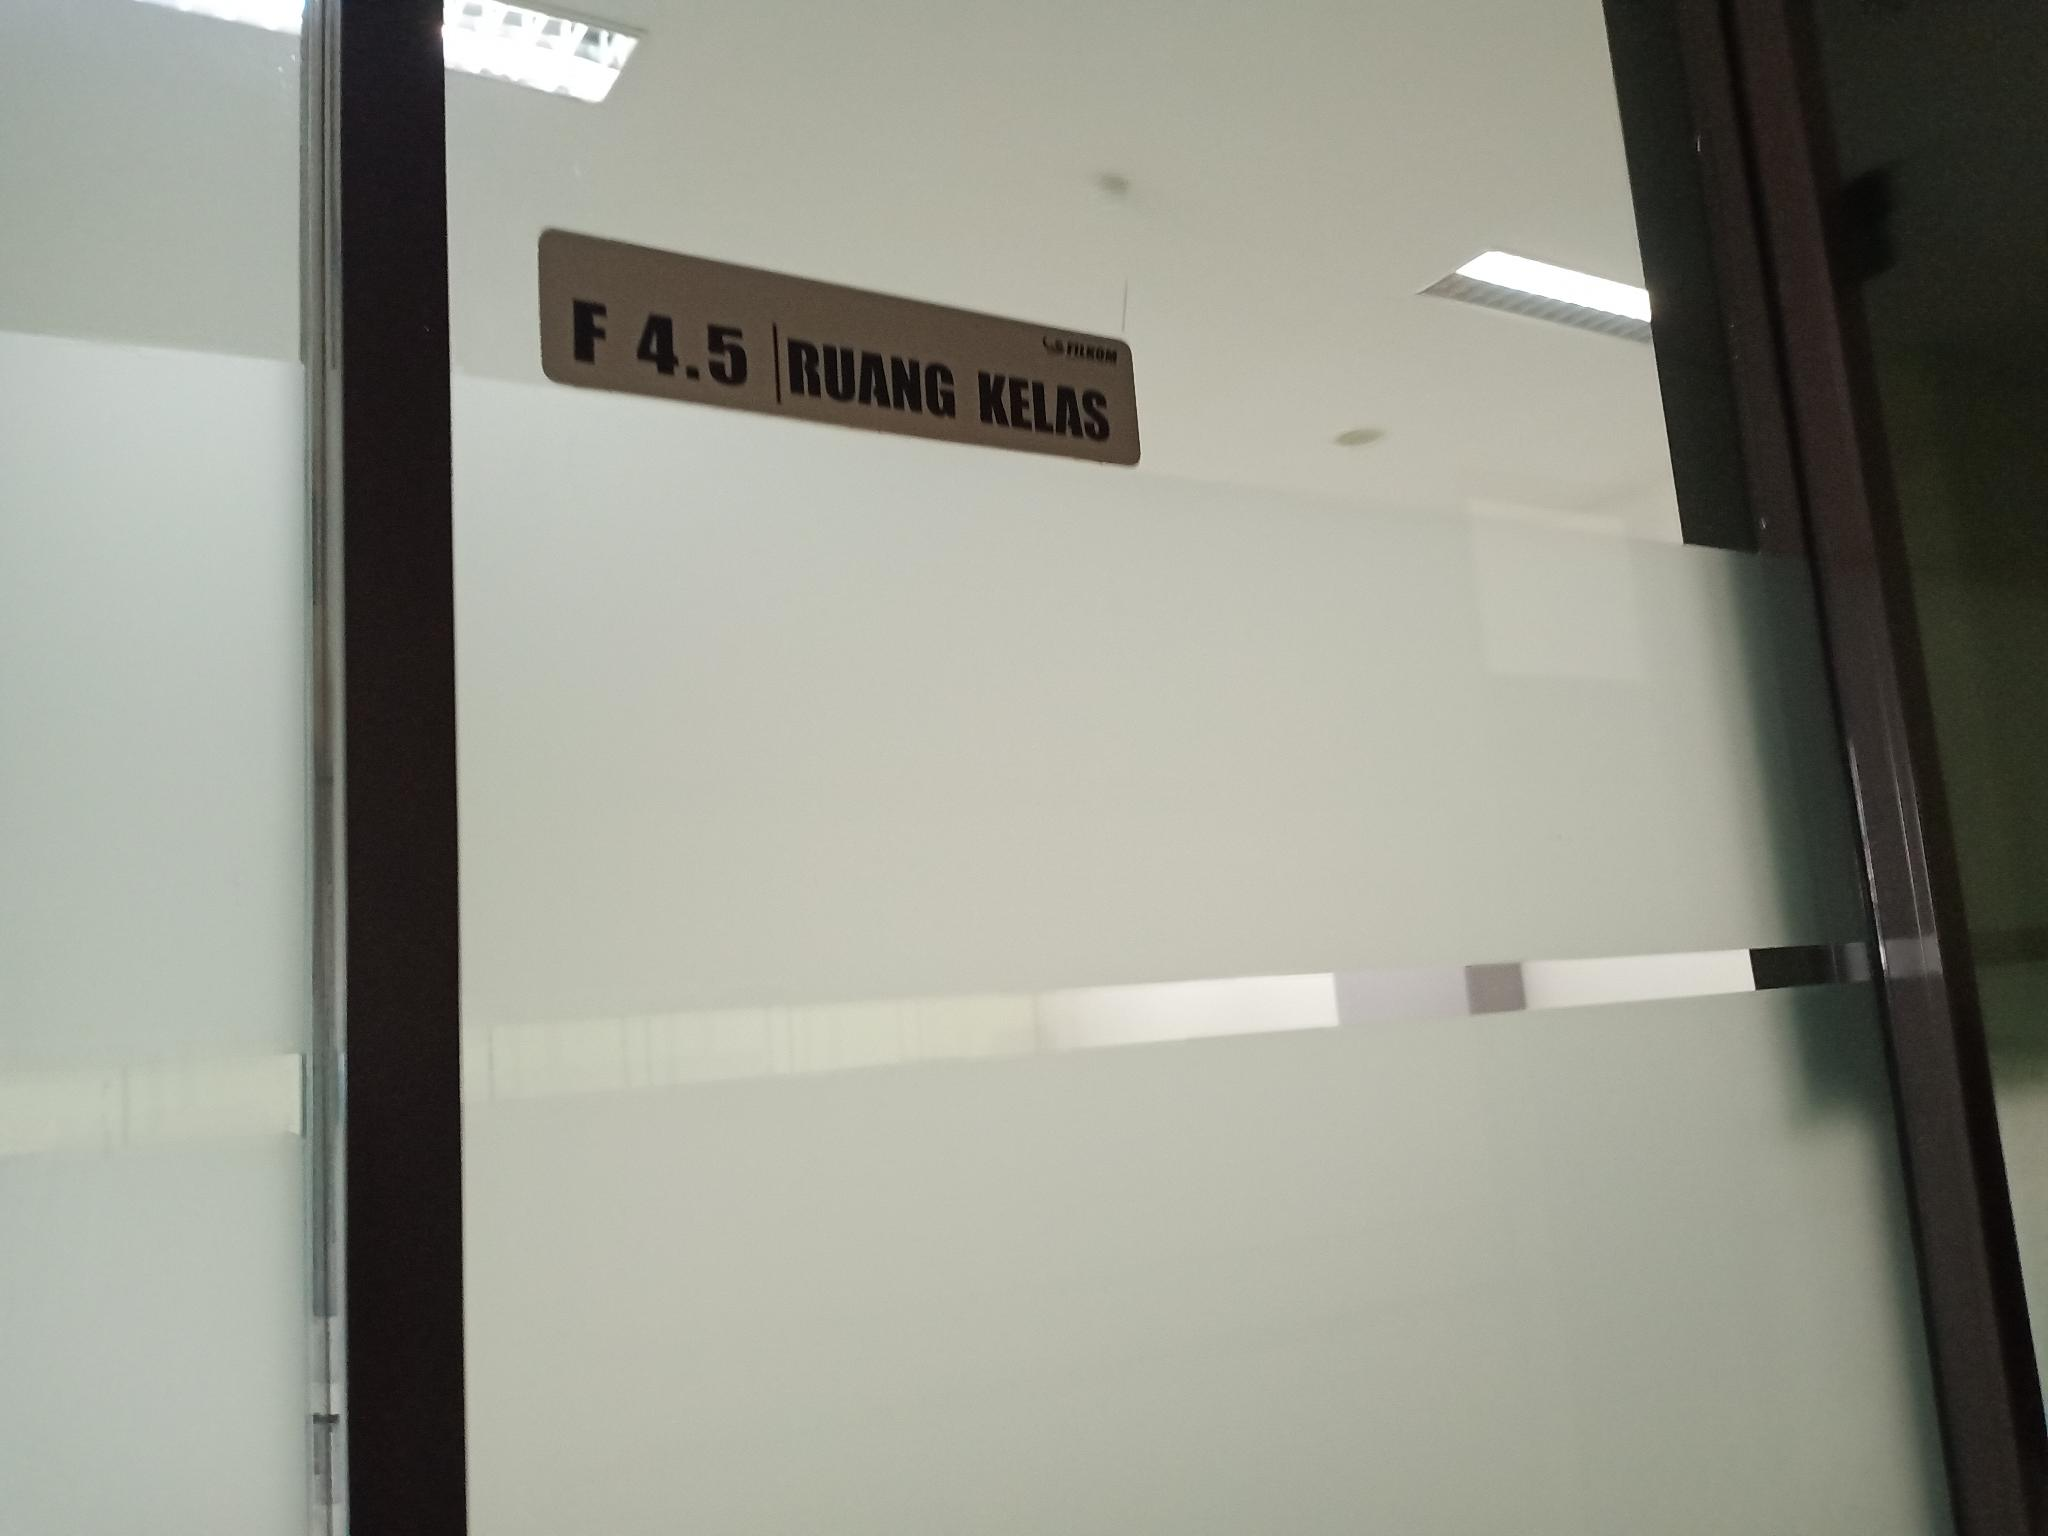plate: (540, 226, 1142, 470)
